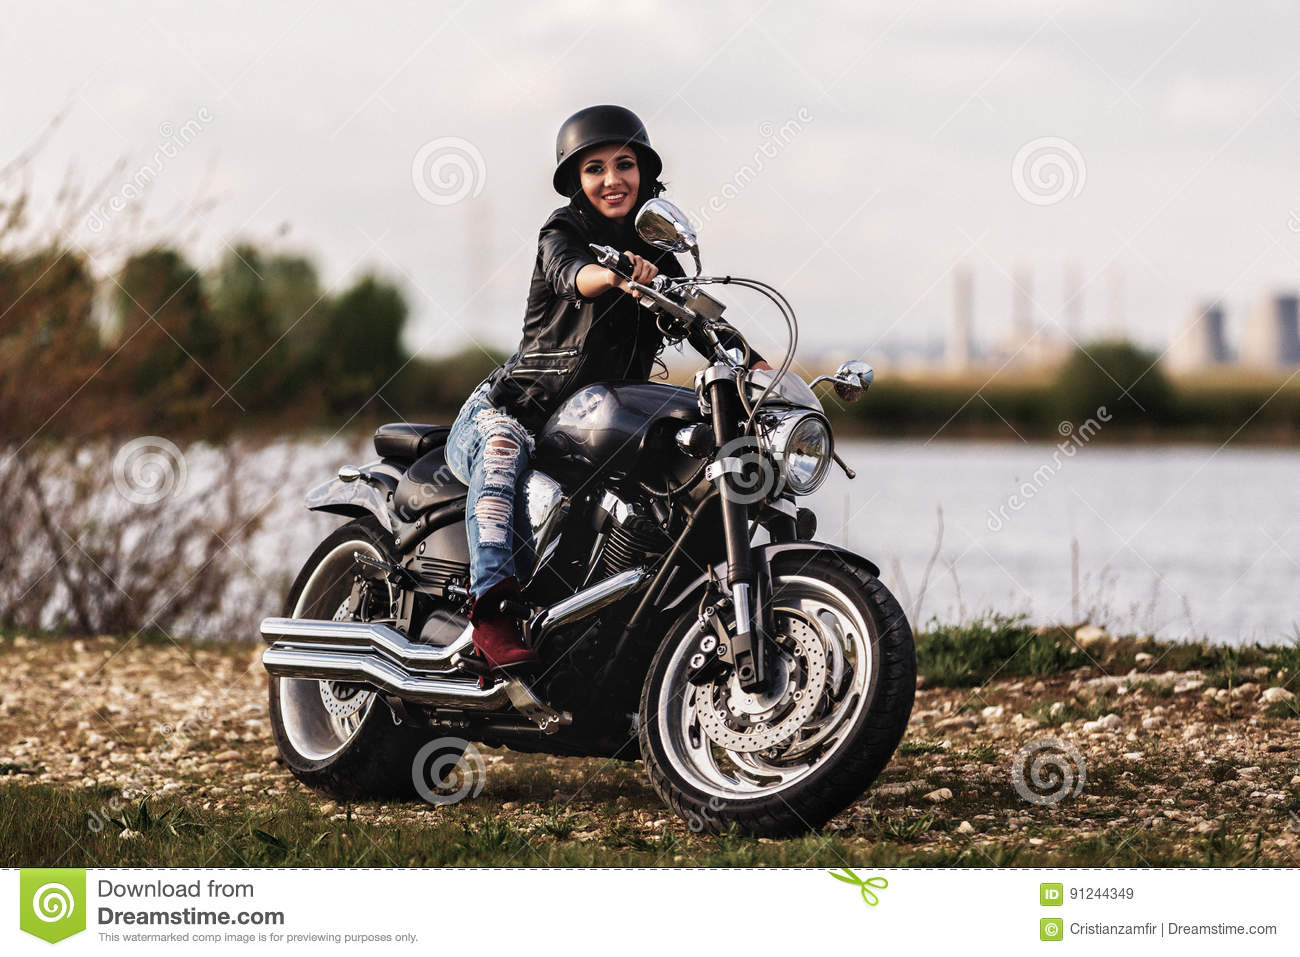helmet: (552, 108, 662, 174)
